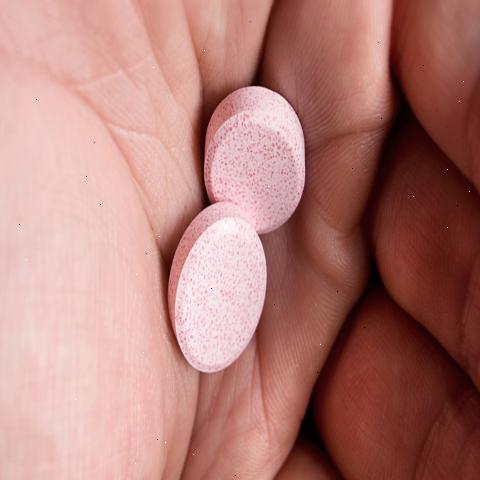Pill: (164, 206, 282, 386), (204, 79, 313, 231)
